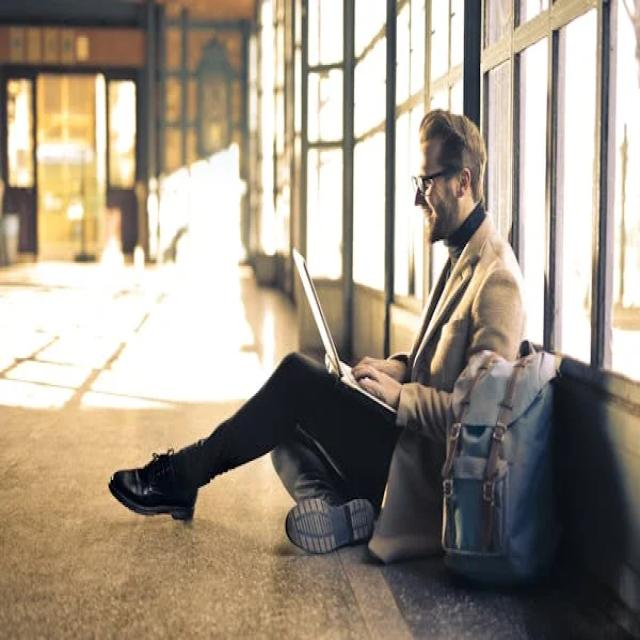Real human 2: (102, 101, 575, 560)
